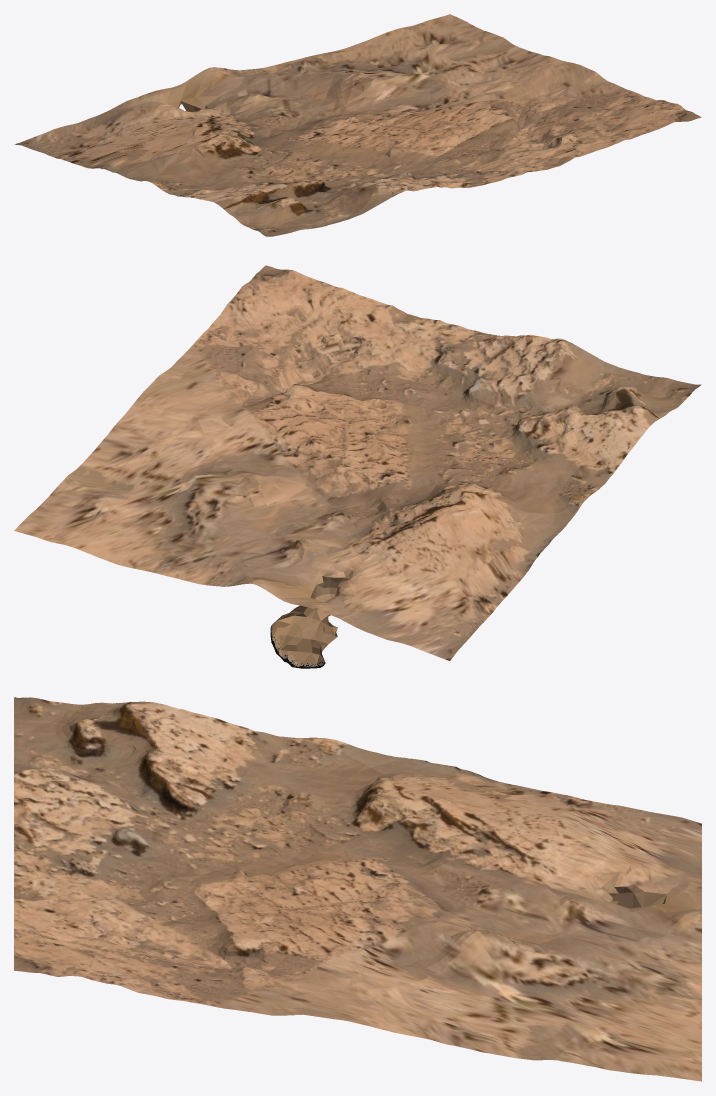
3 views of the same model, one above another, from view 1: azimuth 30°, elevation 25°; view 2: azimuth 150°, elevation 25°; view 3: azimuth 270°, elevation 25° (orthographic). The views are drawn at different scales.
Bounding box in the file's own units: 2.09 × 0.6936 × 2.09.
Materials: 3 (3 with a texture image).
